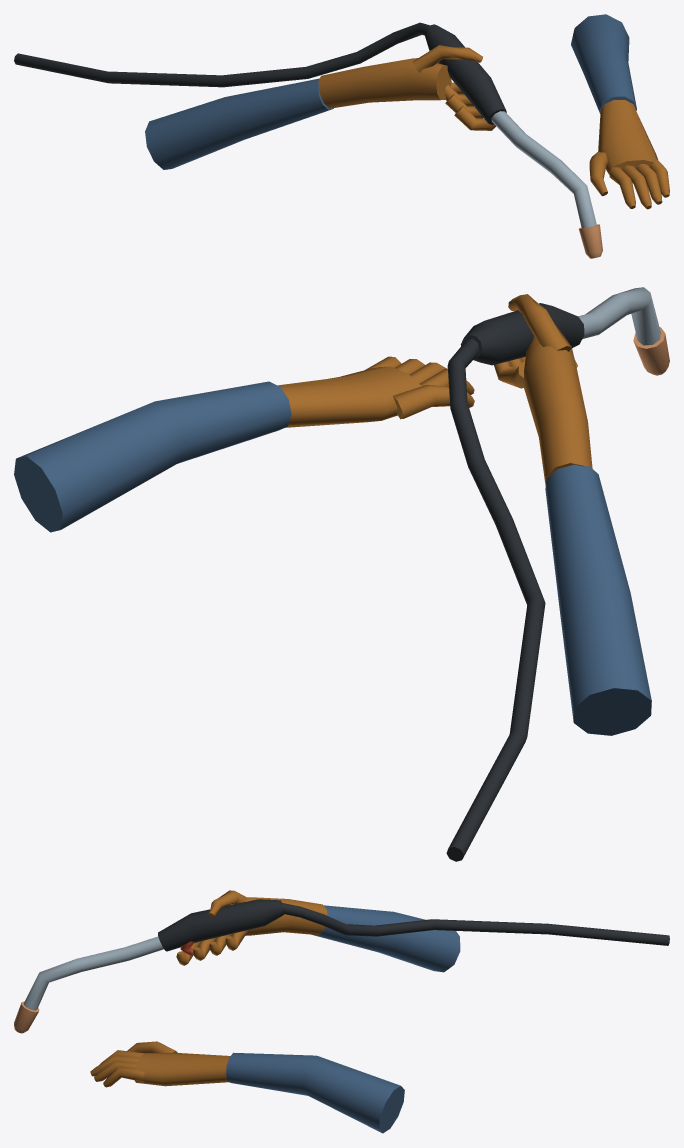
File: fp-torch-glove.glb
The picture shows the model from 3 angles, top to bottom: view 1: azimuth 30°, elevation 25°; view 2: azimuth 150°, elevation 25°; view 3: azimuth 270°, elevation 25°; orthographic projection. The views are drawn at different scales.
Visible parts, largest first — view 1: FP_Glove, FP_Torch, FP_Cable; view 2: FP_Glove, FP_Cable, FP_Torch; view 3: FP_Glove, FP_Torch, FP_Cable.
Part boxes in pixels (x1,y1,x2,y2): FP_Glove: (145,14,669,209); FP_Torch: (424,24,602,258); FP_Cable: (14,22,429,87); FP_Glove: (14,294,651,735); FP_Cable: (446,338,545,861); FP_Torch: (460,287,669,375); FP_Glove: (90,890,460,1133); FP_Torch: (14,899,284,1033); FP_Cable: (281,902,669,945).
Size of the model in its own units: 0.7702 by 0.2655 by 1.05.
